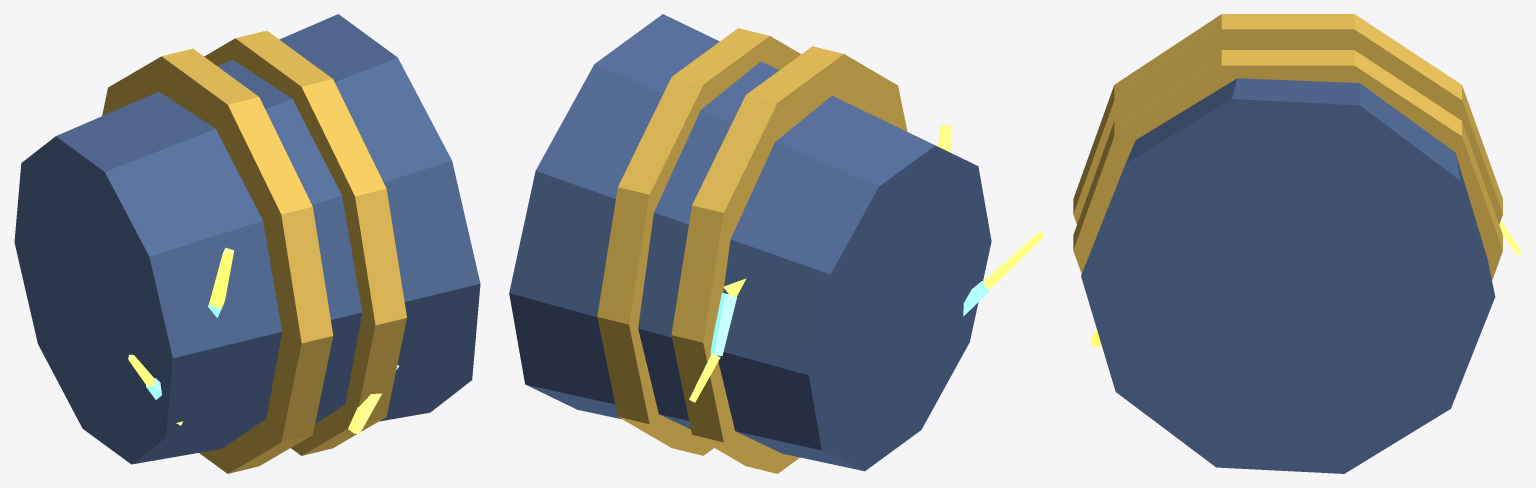
The model's file is vorlaug_arm_r.glb.
3 views of the same model, side by side, from view 1: azimuth 30°, elevation 25°; view 2: azimuth 150°, elevation 25°; view 3: azimuth 270°, elevation 25° (orthographic).
Parts seen in each view (by area): view 1: vorlaug_arm_r; view 2: vorlaug_arm_r; view 3: vorlaug_arm_r.
Boxes of the visible parts, box(x1,y1,x2,y2) form: vorlaug_arm_r: box(14, 14, 480, 473); vorlaug_arm_r: box(509, 14, 1044, 473); vorlaug_arm_r: box(1073, 14, 1521, 473).
Size of the model in its own units: 0.3356 by 0.3355 by 0.3673.
